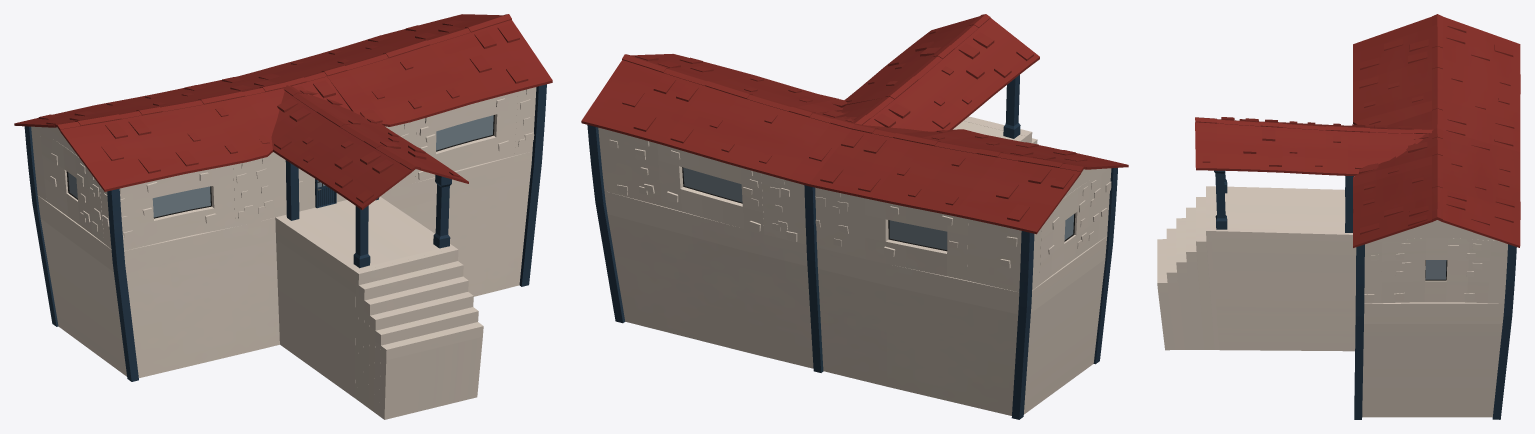
Rendered from 2 skewed - col.glb.
The picture shows the model from 3 angles, left to right: view 1: azimuth 30°, elevation 25°; view 2: azimuth 150°, elevation 25°; view 3: azimuth 270°, elevation 25°; orthographic projection. The views are drawn at different scales.
Visible parts, largest first — view 1: 2 skewed - col.001; view 2: 2 skewed - col.001; view 3: 2 skewed - col.001.
Part boxes in pixels (left/top/right/bottom): 2 skewed - col.001: left=14, top=14, right=552, bottom=419; 2 skewed - col.001: left=581, top=14, right=1128, bottom=419; 2 skewed - col.001: left=1157, top=14, right=1520, bottom=419.
Bounding box in the file's own units: 43.57 × 21.5 × 32.88.
Materials: 4 (1 with a texture image).
